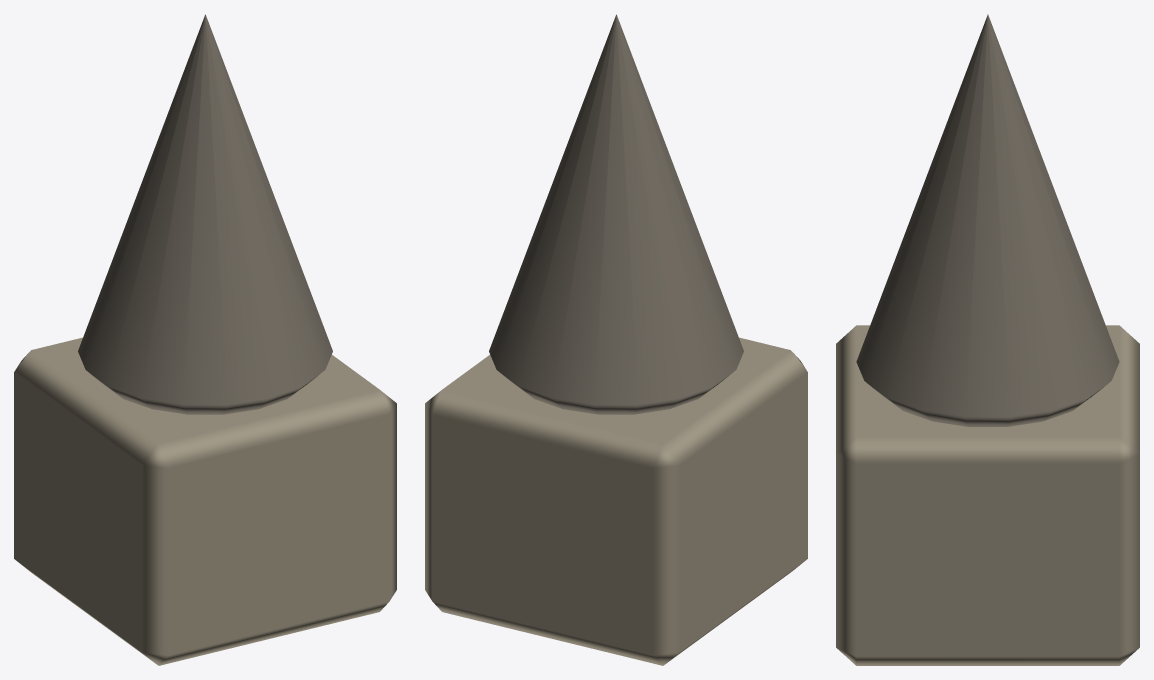
The model's file is stone-halls-pinnacle.49c594cd.glb.
3 views of the same model, side by side, from view 1: azimuth 30°, elevation 25°; view 2: azimuth 150°, elevation 25°; view 3: azimuth 270°, elevation 25° (orthographic). The views are drawn at different scales.
Visible parts, largest first — view 1: body; view 2: body; view 3: body.
Part boxes in pixels (x1,y1,x2,y2): body: (14,14,396,665); body: (425,14,807,665); body: (836,14,1139,665).
Size of the model in its own units: 0.3 by 0.65 by 0.3.
